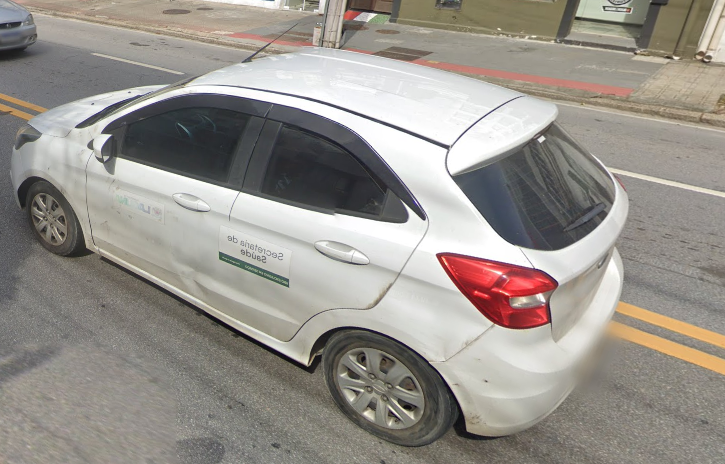car: (10, 48, 632, 449)
